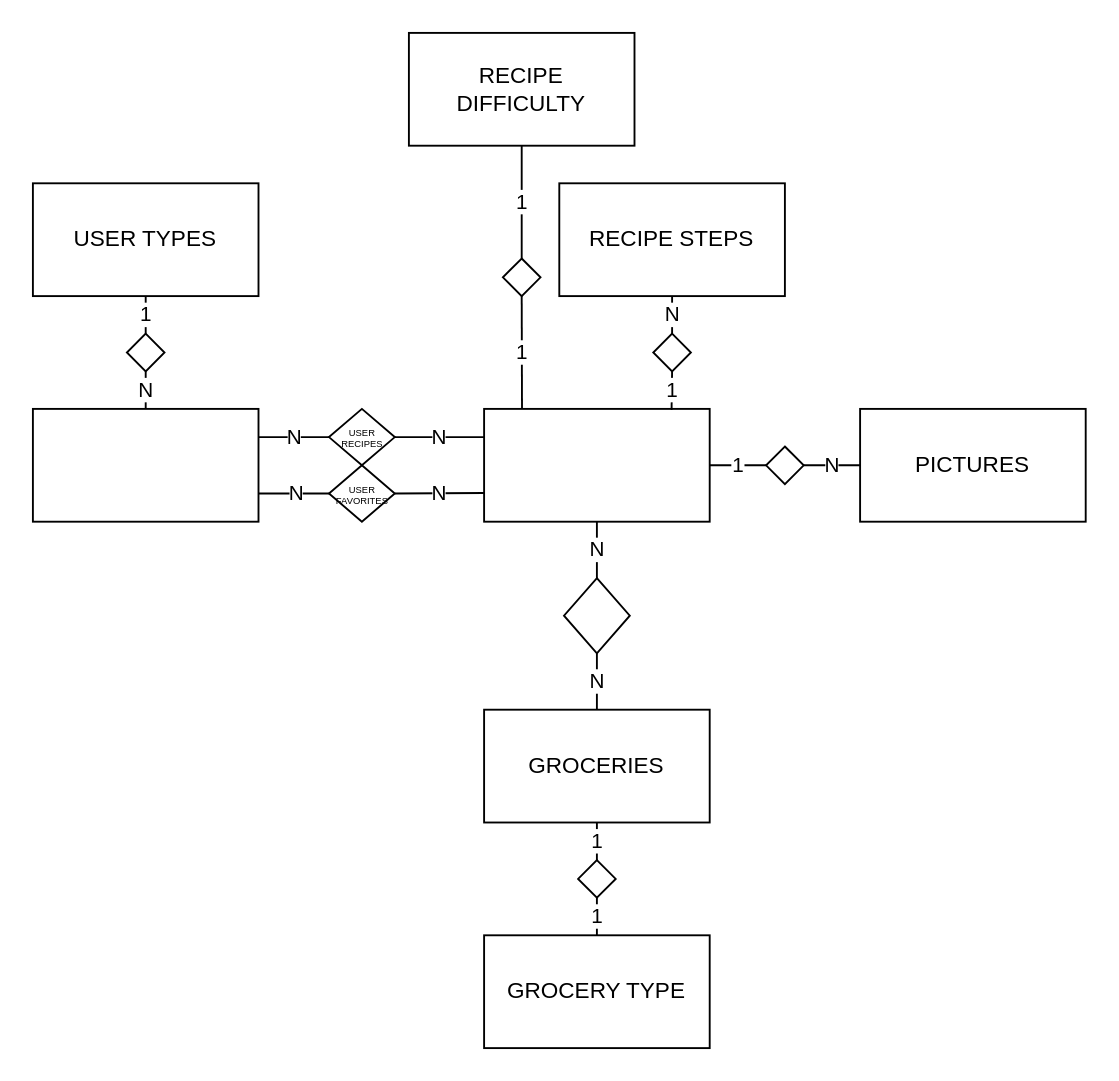
Image size: 1119x1081. Some labels were removed from this diagram. Each missing label, with the centre of its shape:
"RECIPE GROCERIES" belongs at pixel 596 614.
"RECIPES" belongs at pixel 596 464.
"USERS" belongs at pixel 144 464.
